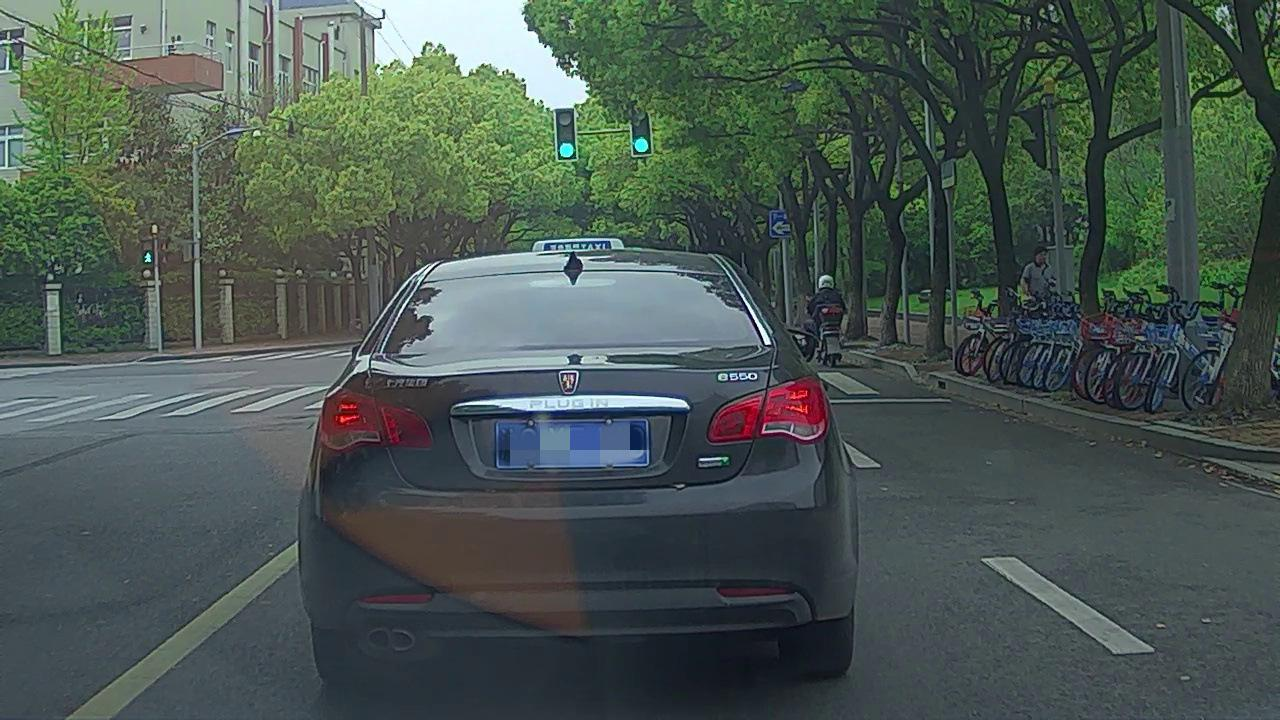traffic_light: (554, 110, 576, 162), (632, 117, 652, 155)
